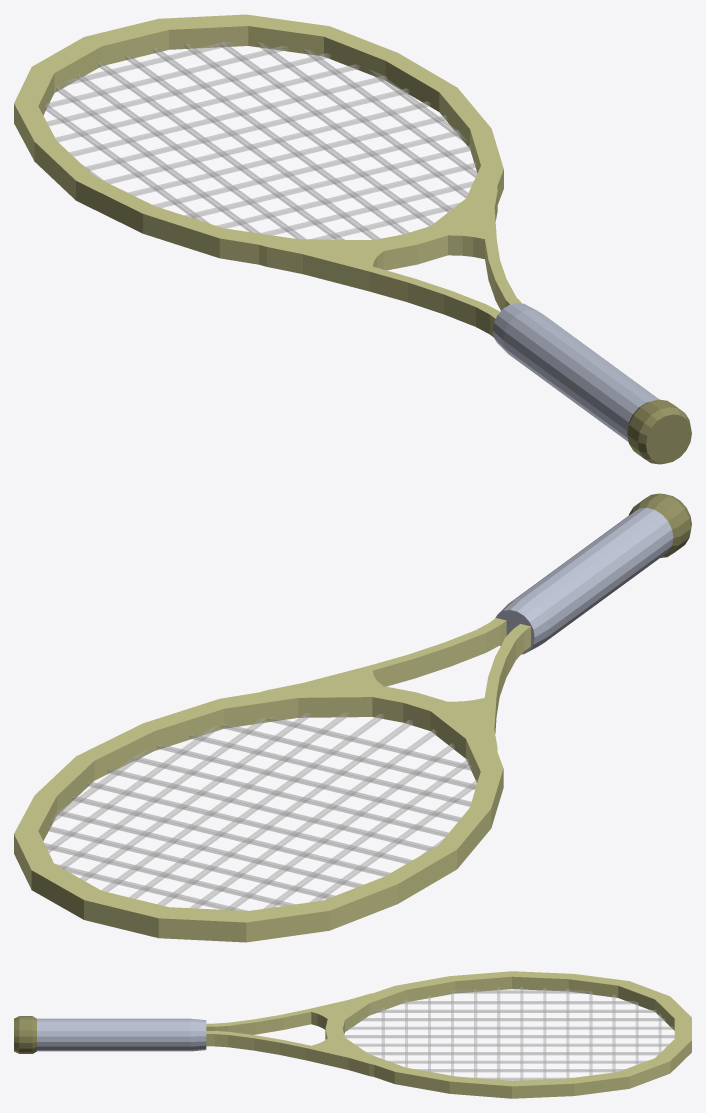
File: Raqueta.fbx
3 renders of one model, top to bottom at view 1: azimuth 30°, elevation 25°; view 2: azimuth 150°, elevation 25°; view 3: azimuth 270°, elevation 25°, orthographic. The views are drawn at different scales.
Parts seen in each view (by area): view 1: Cylinder001, Box001, Cylinder003; view 2: Cylinder001, Box001, Cylinder003; view 3: Cylinder001, Box001, Cylinder003.
Part boxes in pixels (left/top/right/bottom): Cylinder001: left=14, top=14, right=521, bottom=336; Box001: left=45, top=42, right=477, bottom=239; Cylinder003: left=492, top=302, right=691, bottom=464; Cylinder001: left=14, top=618, right=530, bottom=942; Box001: left=44, top=712, right=477, bottom=910; Cylinder003: left=495, top=493, right=691, bottom=654; Cylinder001: left=206, top=971, right=691, bottom=1098; Box001: left=344, top=986, right=674, bottom=1080; Cylinder003: left=14, top=1016, right=206, bottom=1053.
Size of the model in its own units: 756 by 104 by 1880.
